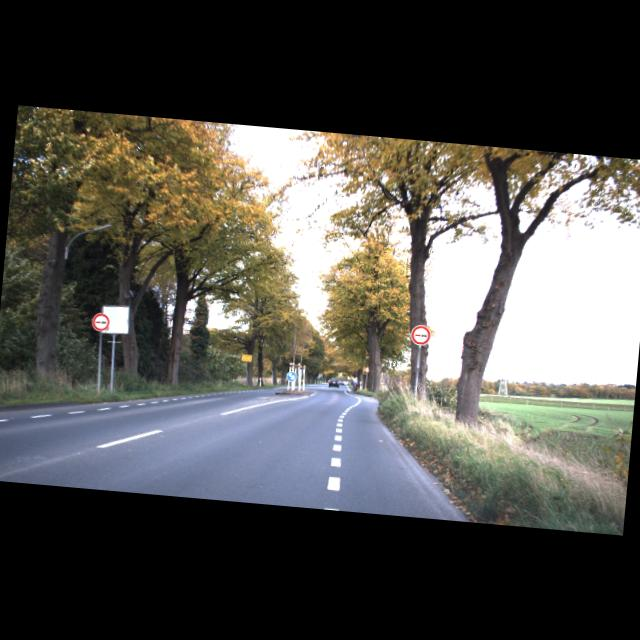mandatory: (286, 371, 296, 382)
prohibitory: (409, 324, 431, 346), (90, 313, 110, 332)
